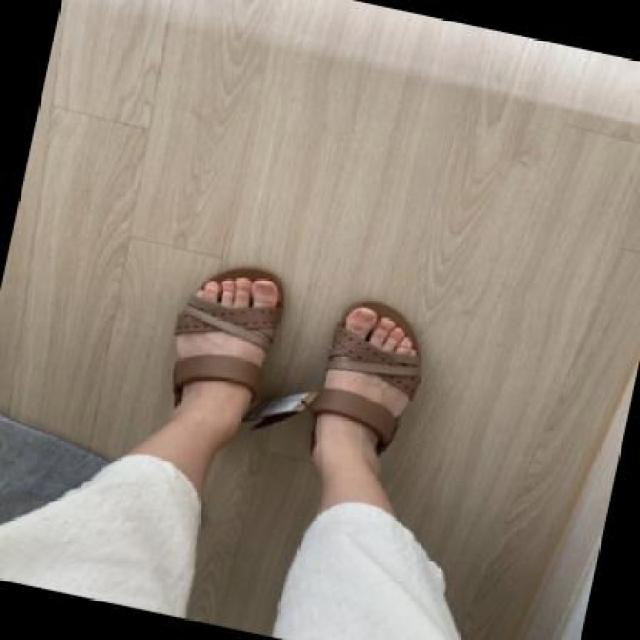Sandals: (308, 298, 446, 510), (172, 262, 302, 452)
